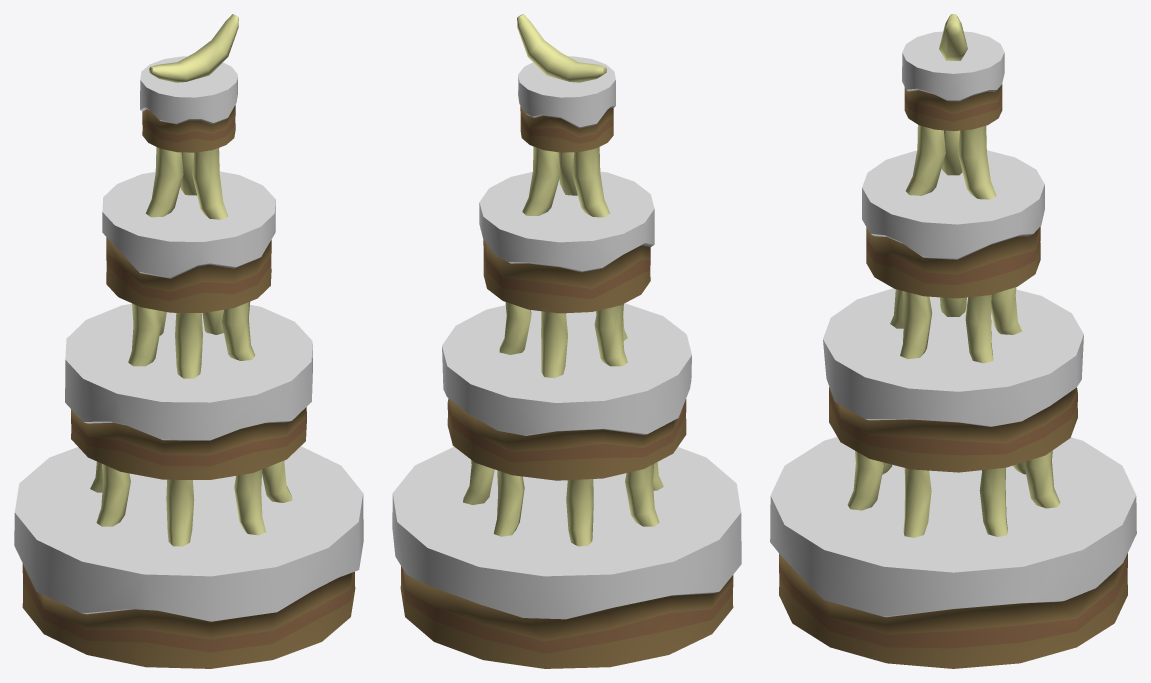
File: Great Banana Cake.glb
The picture shows the model from 3 angles, left to right: view 1: azimuth 30°, elevation 25°; view 2: azimuth 150°, elevation 25°; view 3: azimuth 270°, elevation 25°; orthographic projection. The views are drawn at different scales.
Parts seen in each view (by area): view 1: Great Cake; view 2: Great Cake; view 3: Great Cake.
Part boxes in pixels (x1,y1,x2,y2): Great Cake: [14, 14, 363, 668]; Great Cake: [392, 14, 741, 668]; Great Cake: [770, 14, 1136, 668].
Size of the model in its own units: 0.441 by 0.7913 by 0.441.
4 materials, 1 textured.
